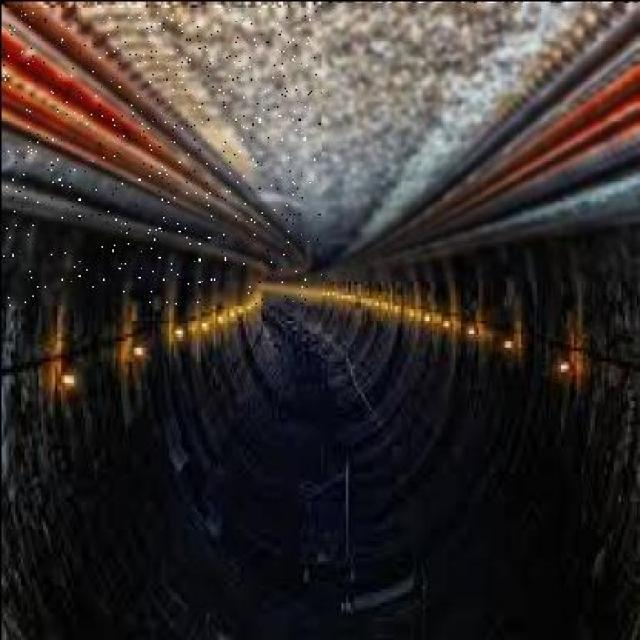rail: (0, 8, 320, 304), (320, 2, 638, 280)
